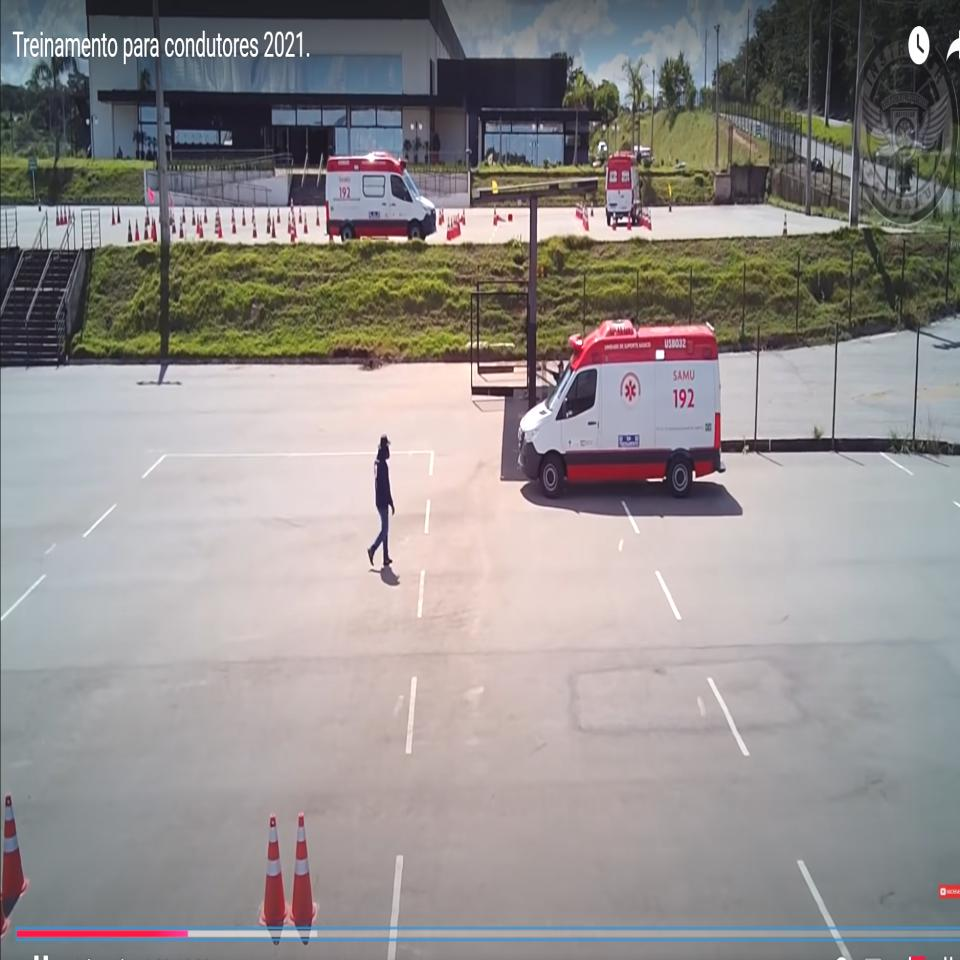ambulancia: (518, 317, 726, 499), (326, 144, 436, 241), (605, 150, 644, 228)
